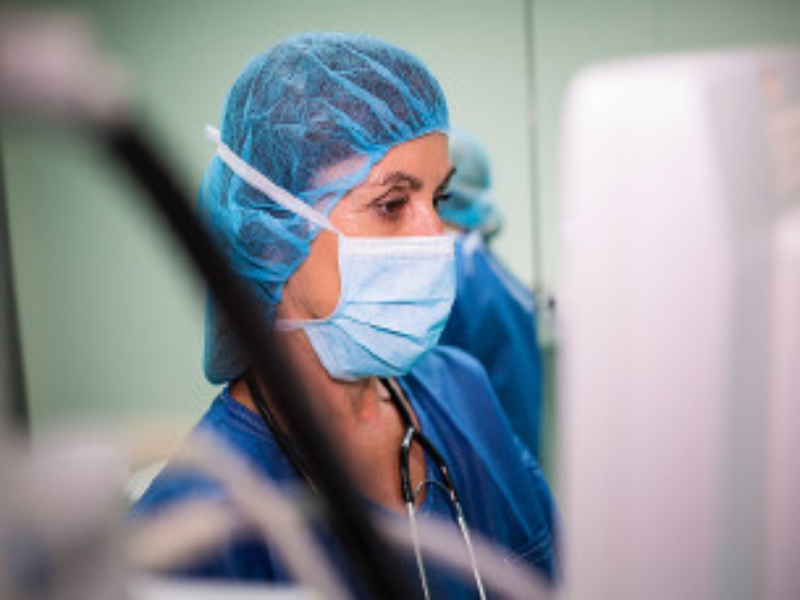mask: (219, 63, 472, 379)
